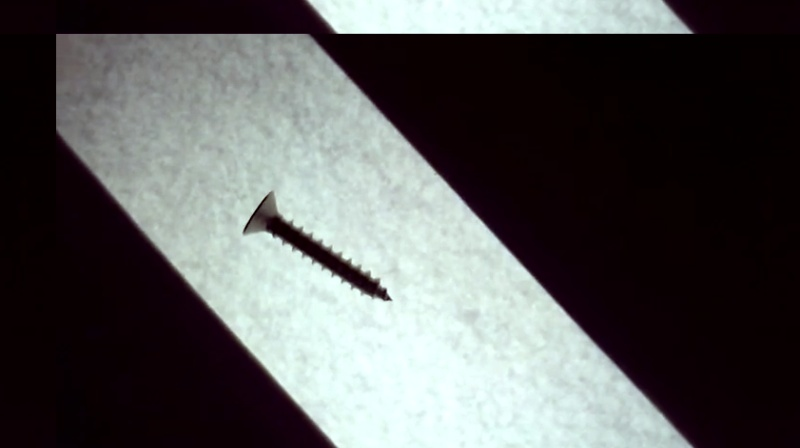S001: (237, 187, 394, 306)
